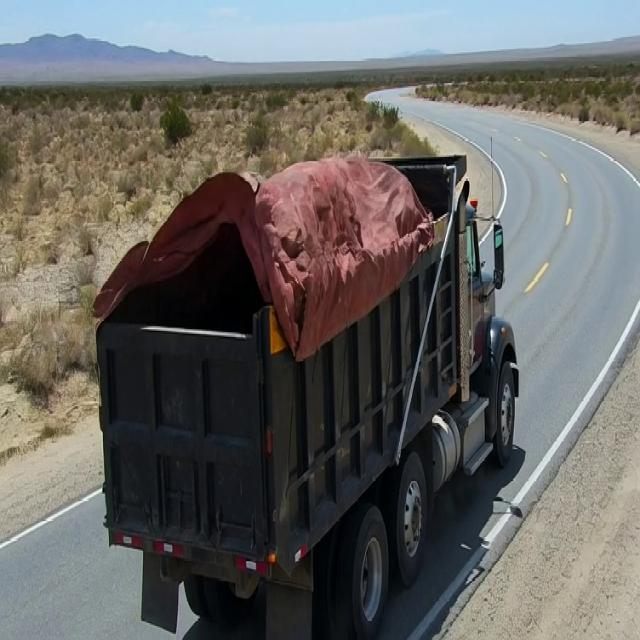trailer: (98, 158, 490, 352)
truck: (84, 114, 537, 612)
